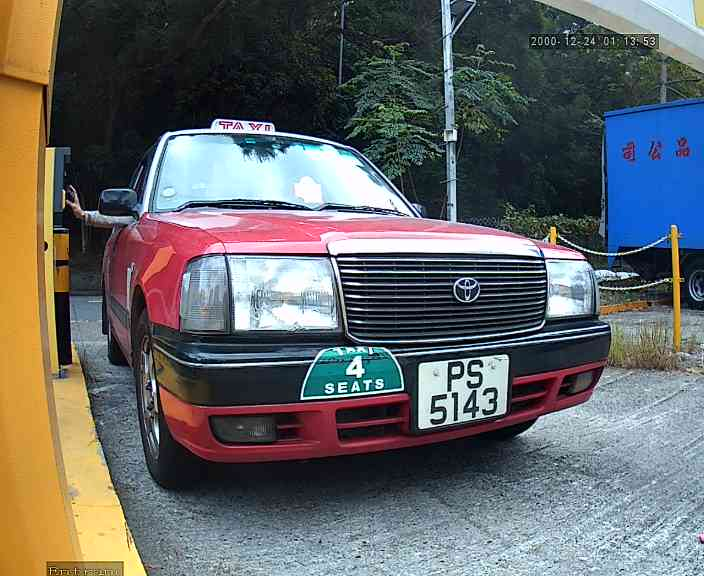taxi: (73, 104, 611, 501)
taxi_mark: (281, 324, 414, 423)
